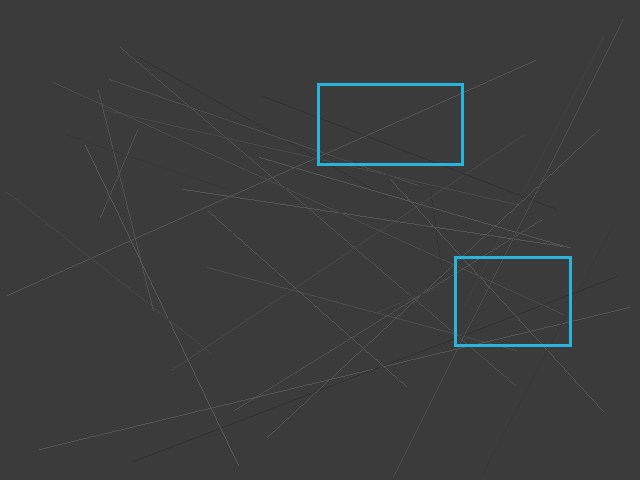D10: (317, 83, 463, 165), (454, 256, 571, 346)
